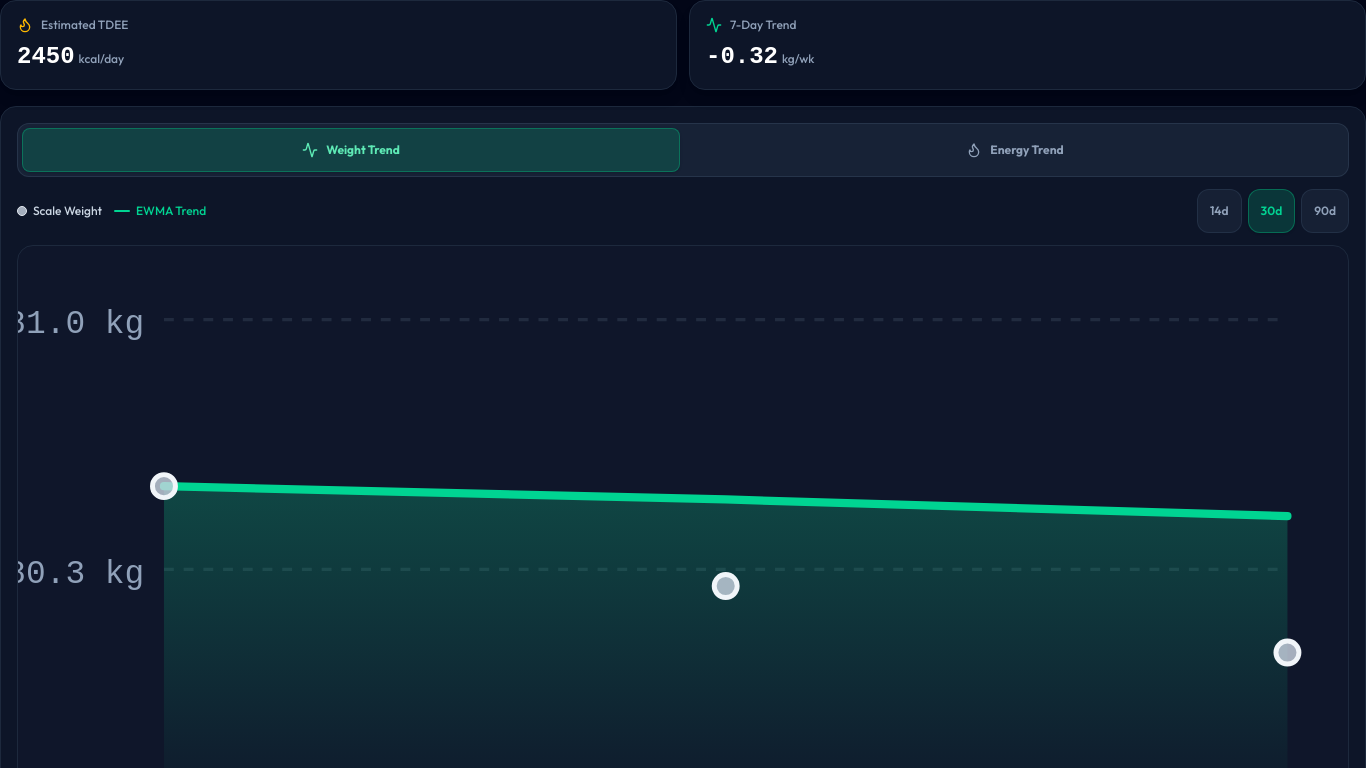
Test: Wave 5: Adaptive Expenditure & Weight Tracking UI Components › 4. AnalyticsModal › switches between Weight Trend and Energy Trend tabs with contextual chart and bottom list
# Switch to Energy Trend tab
Click the tab with test id "tab-analytics-energy": x=1015, y=150 [686,128,1344,172]
(page scrolled)
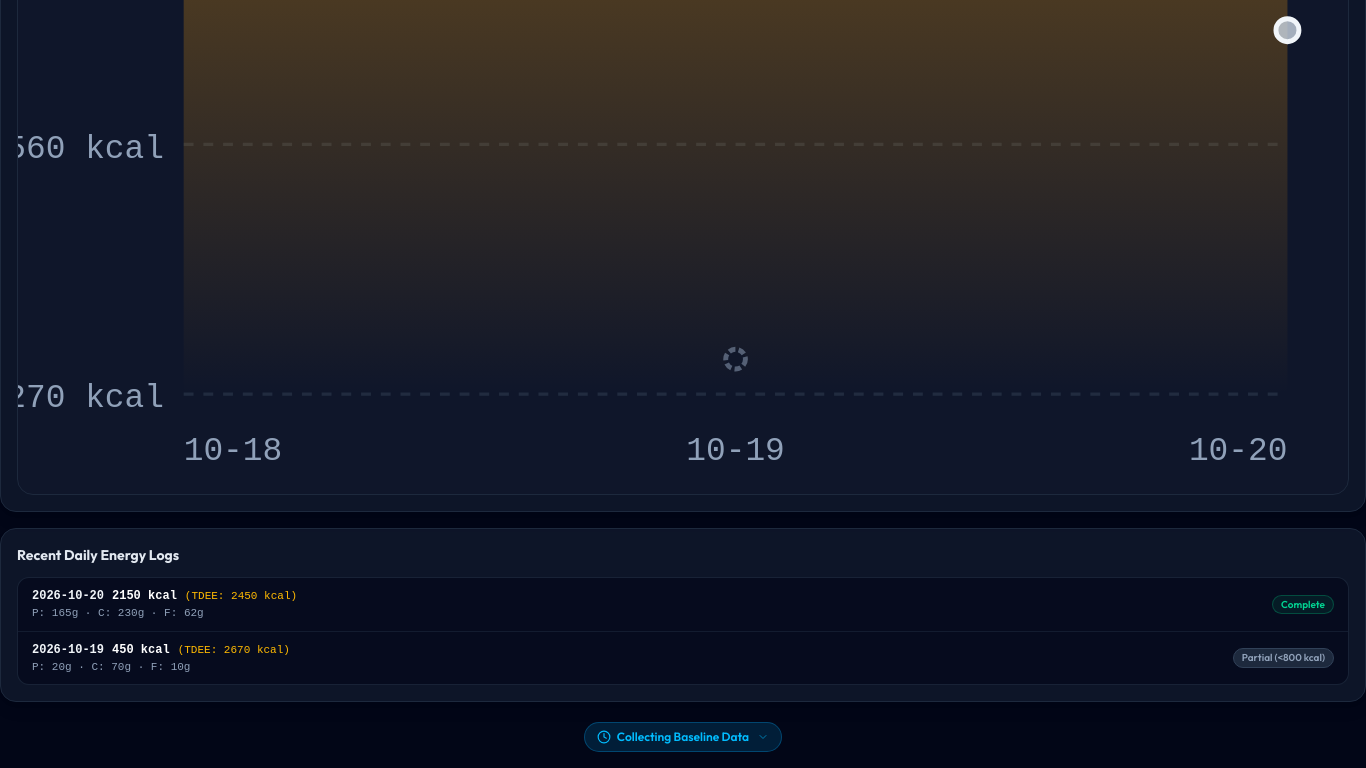
Result: the heading "Recent Daily Energy Logs" is shown at [17,545,179,565]
Result: the text "Partial (<800 kcal)" is shown at [1233,648,1334,668]
